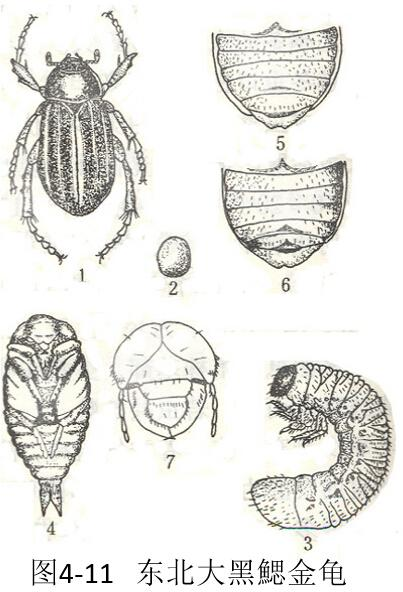grub: (256, 336, 396, 538)
